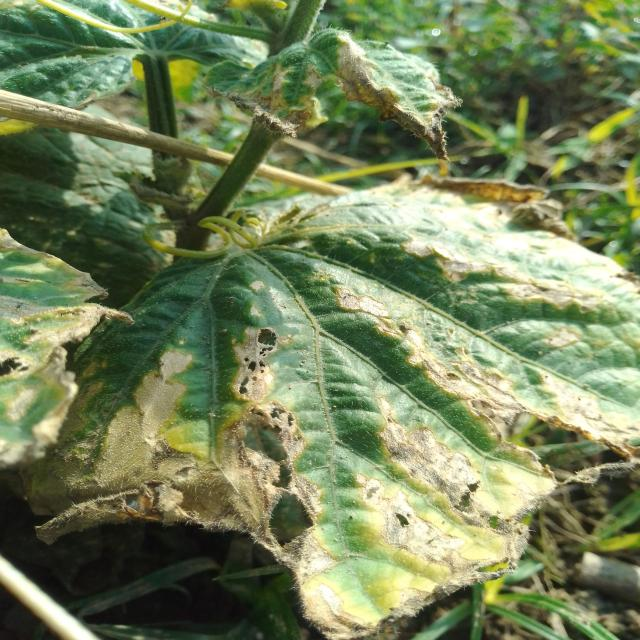cucumber_gummy: (0, 181, 640, 640), (184, 23, 480, 164)
